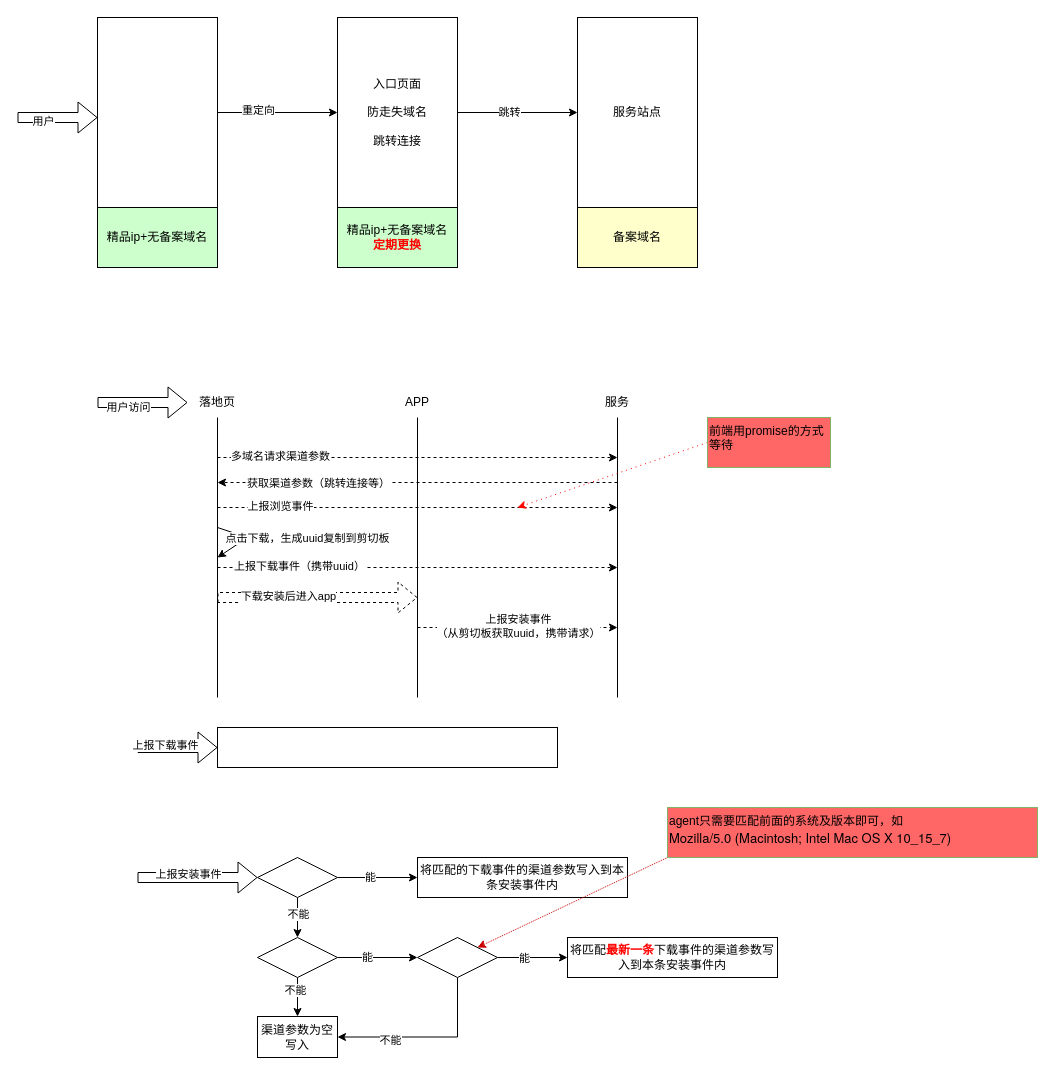
The diagram is 1055 pixels wide and 1075 high, and some of its shapes have lost their labels. Here are the shapes that lost their labels. From the top down, the centre of each, then its label:
the point at 157,112: 稳定入口域名 重定向
the point at 387,747: 服务端：存储用户的ip，agent，渠道参数，uuid，等
the point at 297,877: uuid是否能匹配
the point at 297,957: 24小时内，ip能否匹配
the point at 457,957: agent能否匹配
